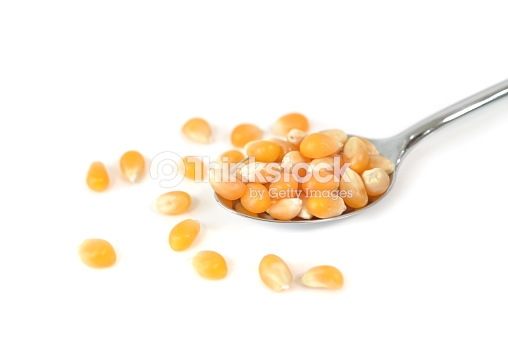corn: (76, 239, 119, 270), (257, 252, 290, 291), (119, 146, 147, 189), (299, 265, 344, 291), (193, 250, 226, 283)
